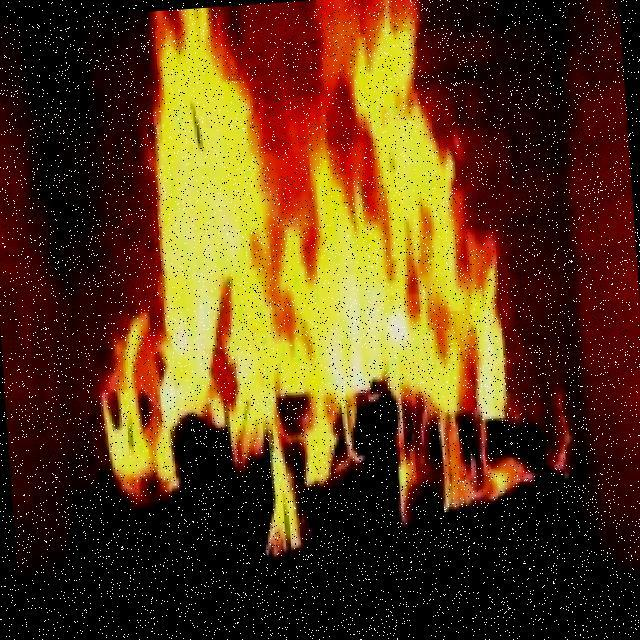Fire: (91, 42, 489, 502)
